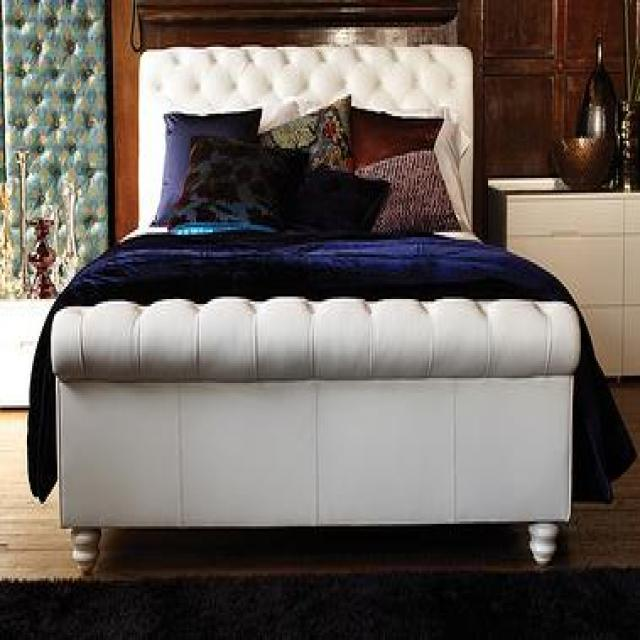bed: (47, 44, 578, 574)
